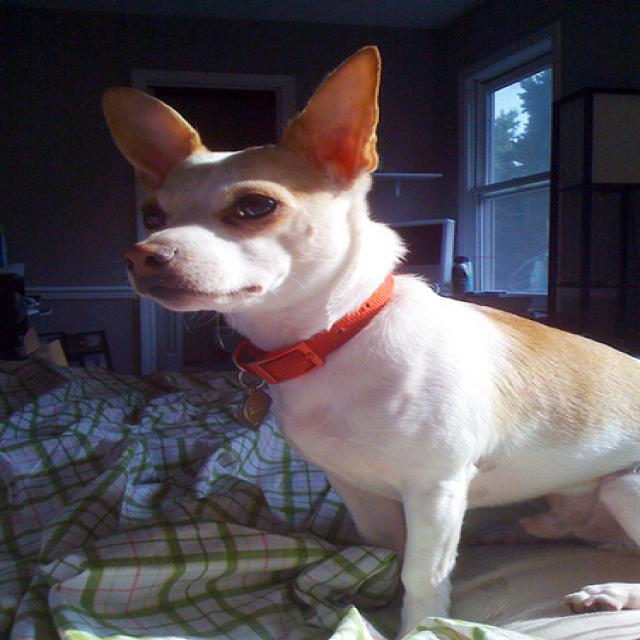dog-chihuahua: (90, 35, 637, 637)
